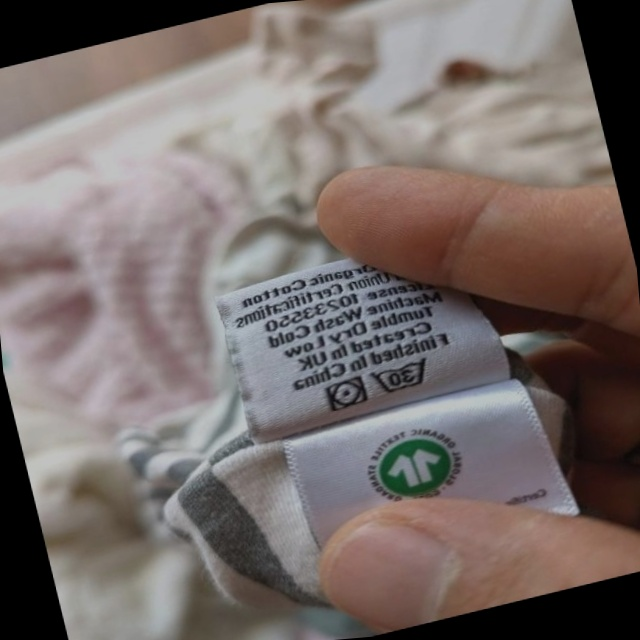30C: (366, 352, 439, 401)
tumble_dry_low: (320, 372, 372, 417)
